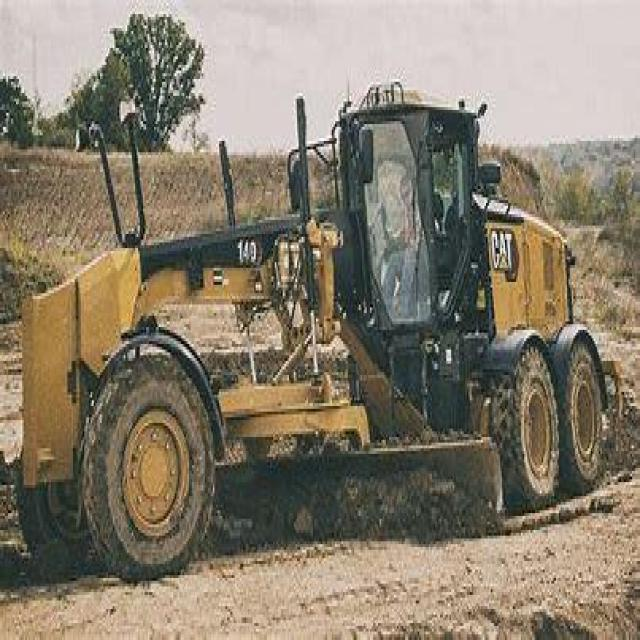buldozerpayloadergrader: (16, 56, 627, 586)
